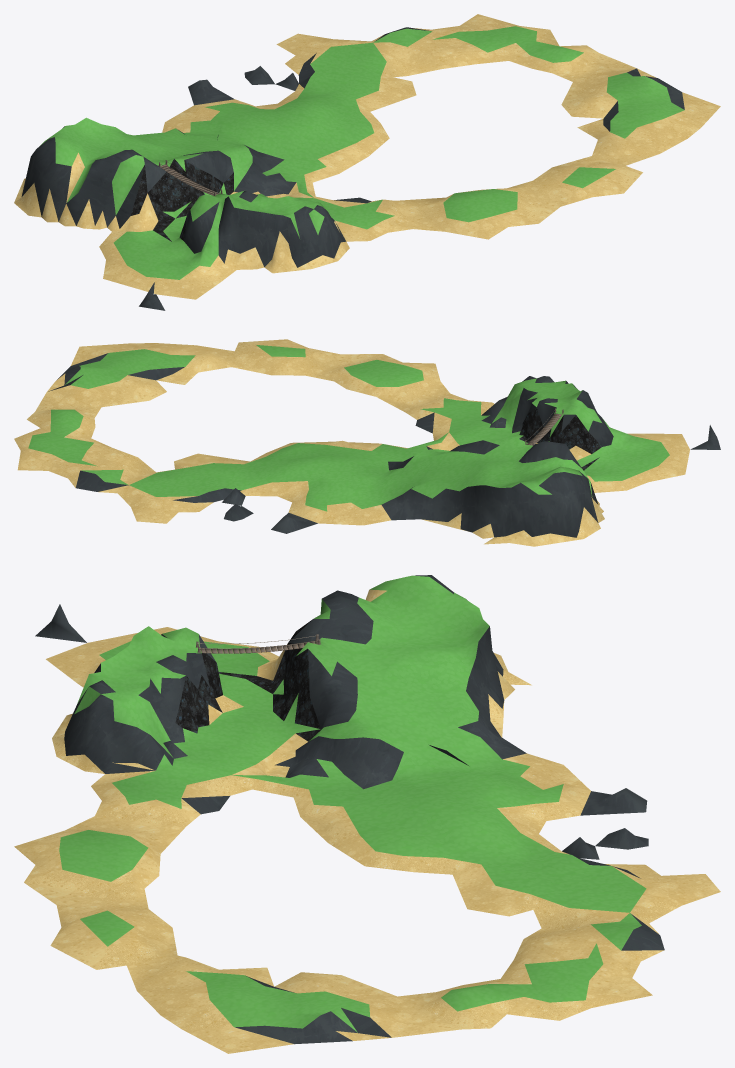
The model's file is Island Full.fbx.
3 views of the same model, one above another, from view 1: azimuth 30°, elevation 25°; view 2: azimuth 150°, elevation 25°; view 3: azimuth 270°, elevation 25° (orthographic). The views are drawn at different scales.
Parts seen in each view (by area): view 1: Map Rework; view 2: Map Rework; view 3: Map Rework.
Part boxes in pixels (box(x1,y1,x2,y2)): Map Rework: box(14, 14, 720, 310); Map Rework: box(14, 339, 720, 546); Map Rework: box(14, 575, 720, 1053).
Bounding box in the file's own units: 3404 × 333 × 2376.
Materials: 5 (5 with a texture image).
